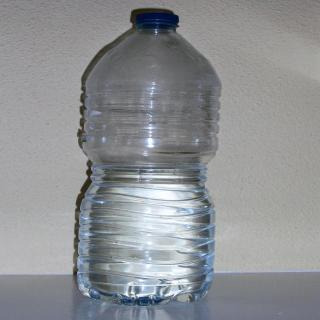Plastic-bottle: (72, 6, 224, 308)
